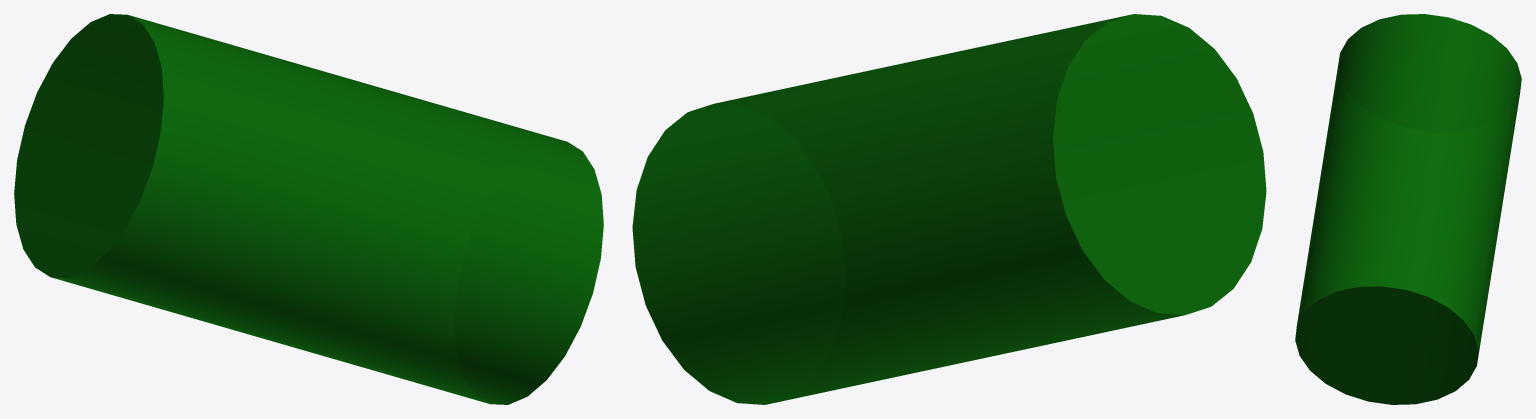
File: Event_421115418_jet_12.fbx
3 renders of one model, left to right at view 1: azimuth 30°, elevation 25°; view 2: azimuth 150°, elevation 25°; view 3: azimuth 270°, elevation 25°, orthographic. The views are drawn at different scales.
Visible parts, largest first — view 1: Model; view 2: Model; view 3: Model.
Boxes of the visible parts, x1,y1,x2,y2 form: Model: [14, 14, 603, 404]; Model: [632, 14, 1266, 404]; Model: [1295, 14, 1521, 404].
Size of the model in its own units: 0.0866 by 0.069 by 0.049.
